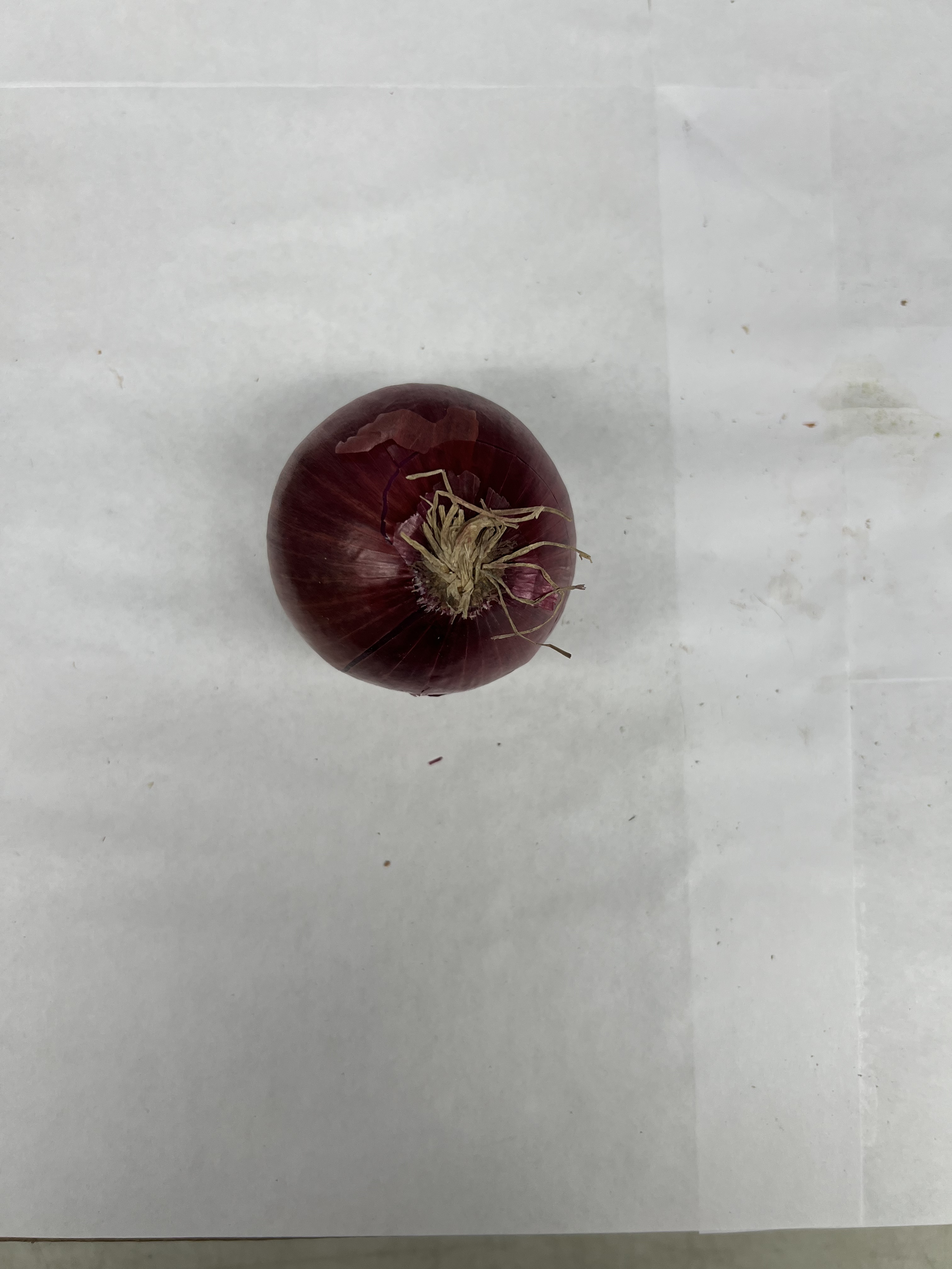produce: (264, 377, 584, 706)
